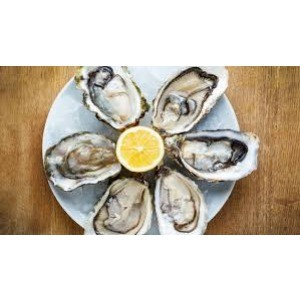oyster_brain food: (175, 135, 257, 169), (76, 75, 134, 123), (80, 186, 144, 229), (159, 185, 219, 228), (160, 76, 213, 124), (56, 136, 106, 181)
